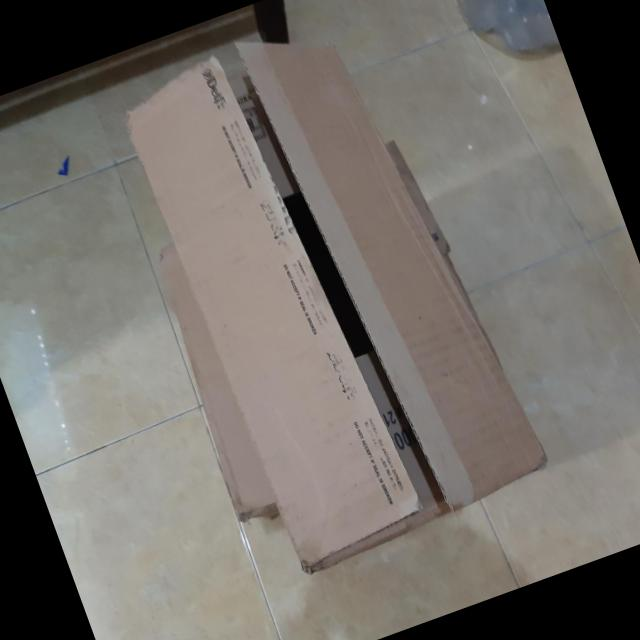Kardus: (84, 0, 557, 591), (110, 38, 430, 580), (231, 0, 554, 527)
